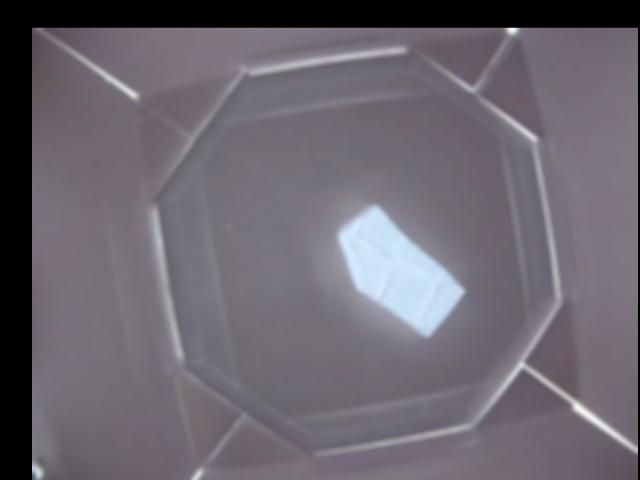China: (338, 206, 466, 339)
